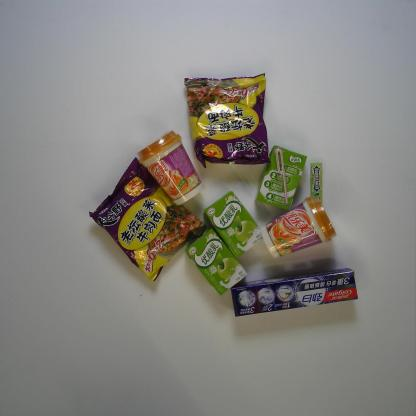Gum: (308, 162, 324, 206)
Instant Drink: (259, 193, 338, 259), (136, 130, 203, 207)
Instant Noodles: (88, 156, 208, 284), (183, 73, 272, 170)
Milk: (184, 227, 248, 297), (202, 191, 262, 259), (255, 145, 307, 212)
Personal Hygiene: (228, 267, 360, 318)
